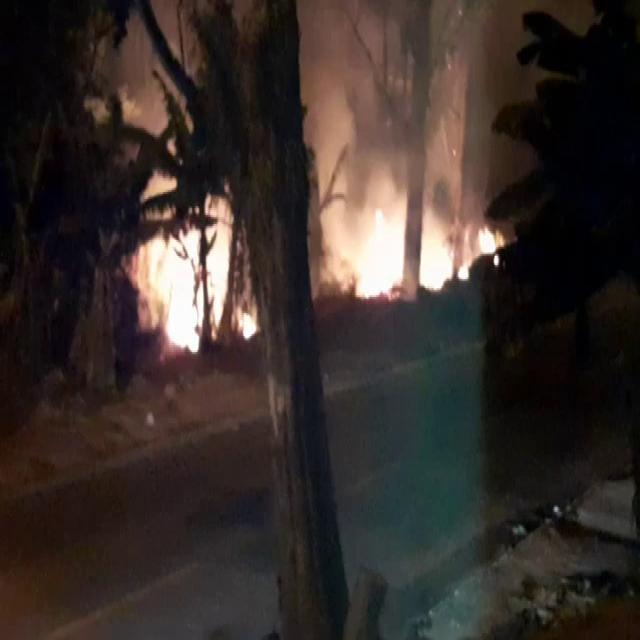Fire: (138, 215, 237, 354), (421, 212, 498, 292), (350, 199, 403, 301), (237, 306, 260, 342)
Smoke: (294, 0, 457, 167)
